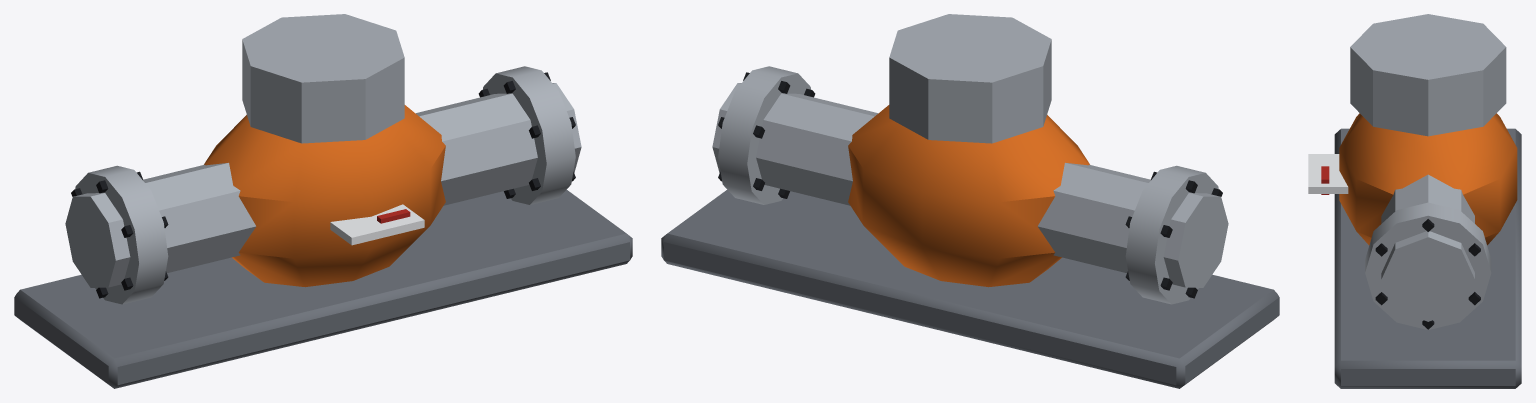
File: valve_check_valve.glb
3 views of the same model, side by side, from view 1: azimuth 30°, elevation 25°; view 2: azimuth 150°, elevation 25°; view 3: azimuth 270°, elevation 25° (orthographic). The views are drawn at different scales.
Parts seen in each view (by area): view 1: valve_check_valve; view 2: valve_check_valve; view 3: valve_check_valve.
Part boxes in pixels (x1,y1,x2,y2): valve_check_valve: (14, 14, 632, 388); valve_check_valve: (661, 14, 1279, 388); valve_check_valve: (1308, 14, 1521, 388).
Size of the model in its own units: 0.36 by 0.16 by 0.137.
